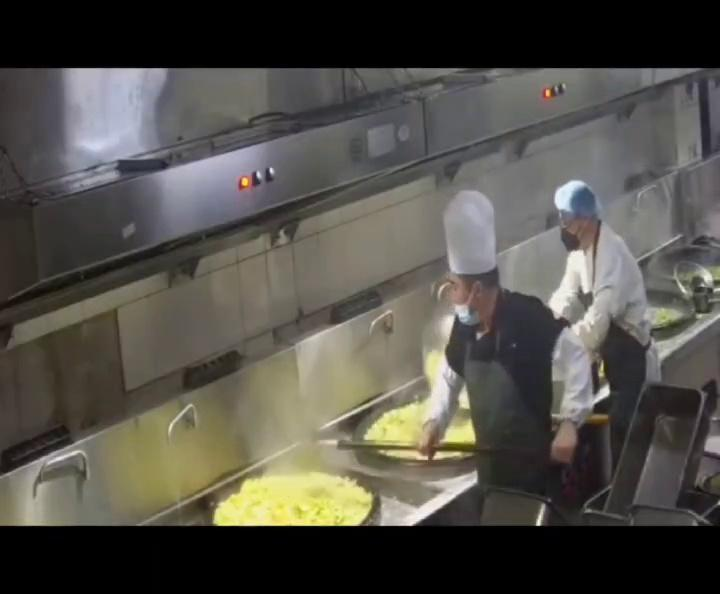mask: (450, 285, 484, 326)
